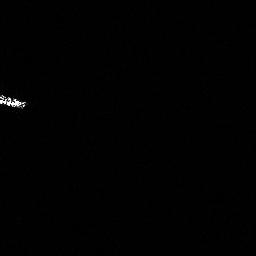ship: (1, 92, 28, 112)
